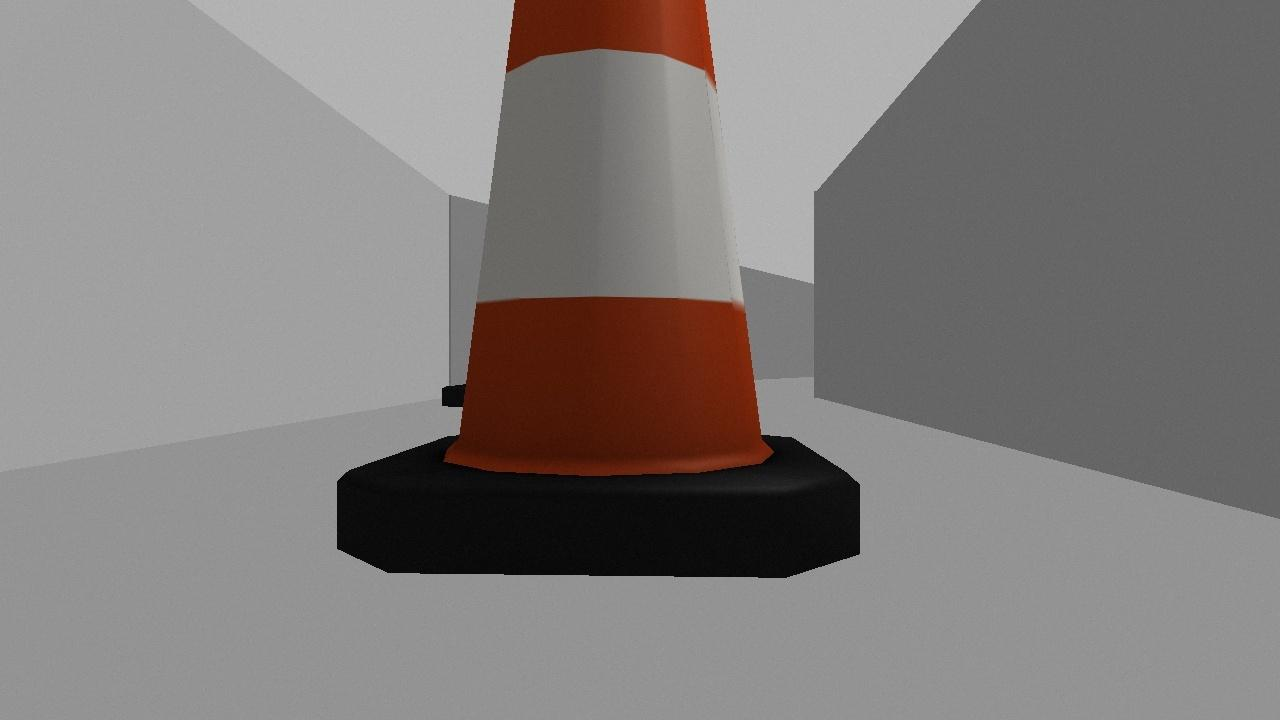cone_barrel: (312, 0, 880, 604)
